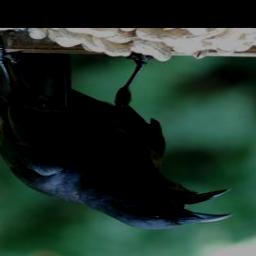Crow: (0, 32, 233, 231)
